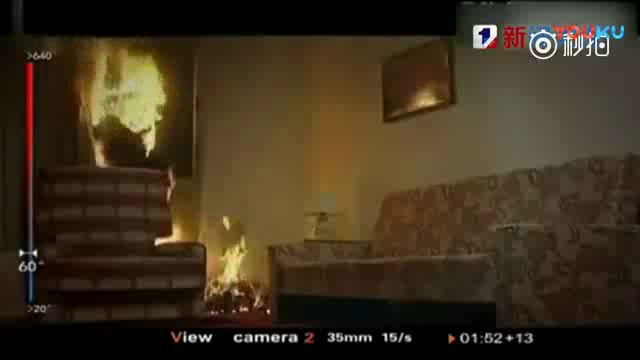fire: (81, 45, 163, 160), (210, 216, 255, 296)
